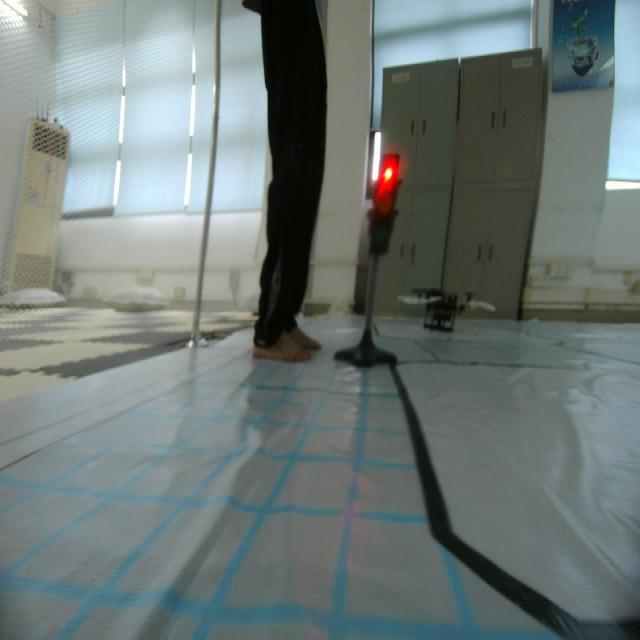red: (371, 155, 401, 260)
